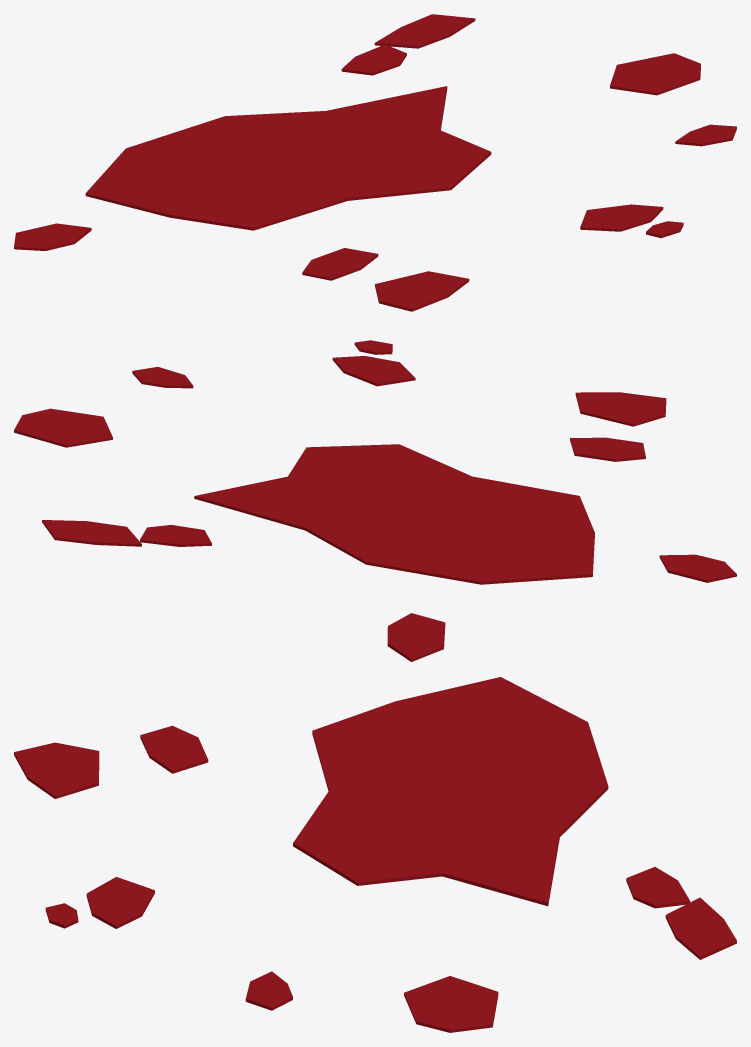
The model's file is gothic_blood.glb.
3 views of the same model, one above another, from view 1: azimuth 30°, elevation 25°; view 2: azimuth 150°, elevation 25°; view 3: azimuth 270°, elevation 25° (orthographic). The views are drawn at different scales.
Parts seen in each view (by area): view 1: gothic_blood; view 2: gothic_blood; view 3: gothic_blood.
Part boxes in pixels (x1,y1,x2,y2): gothic_blood: (14,14,736,311); gothic_blood: (14,340,736,584); gothic_blood: (14,613,736,1032).
Size of the model in its own units: 2.68 by 0.01 by 1.96.
